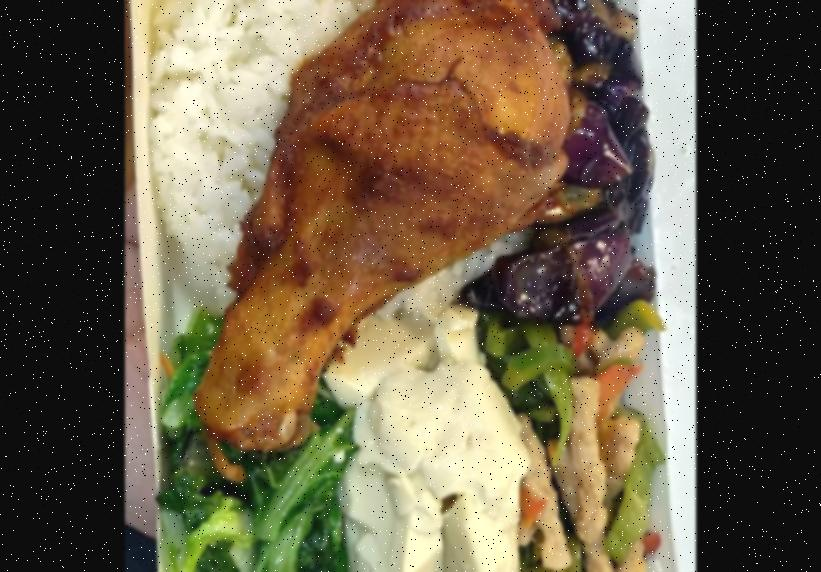box: (124, 0, 684, 572)
honey grilled chicken leg: (195, 0, 571, 450)
side dish: (512, 0, 662, 321), (343, 314, 517, 572), (169, 338, 359, 572), (510, 303, 674, 572)
white rice: (151, 0, 536, 329)
